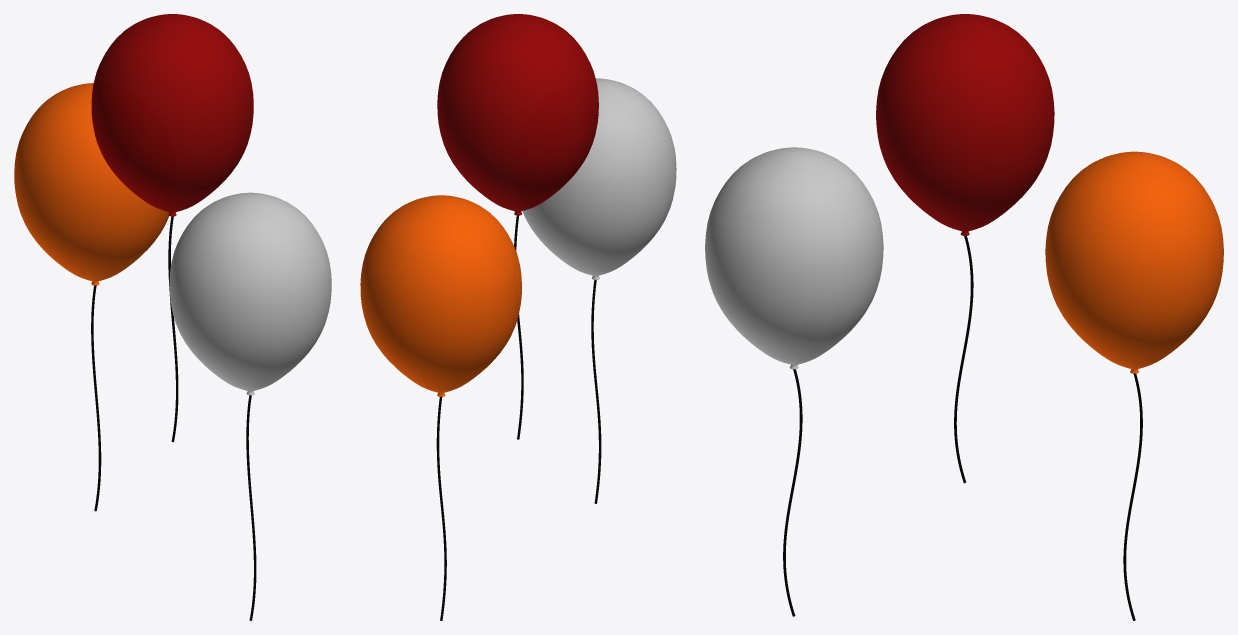
File: globos.obj
3 renders of one model, left to right at view 1: azimuth 30°, elevation 25°; view 2: azimuth 150°, elevation 25°; view 3: azimuth 270°, elevation 25°, orthographic. The views are drawn at different scales.
Parts seen in each view (by area): view 1: Sphere.001_Sphere.004, Sphere, Sphere.002_Sphere.005, NurbsPath.002_NurbsPath.005, NurbsPath.001_NurbsPath.004, NurbsPath; view 2: Sphere.002_Sphere.005, Sphere, Sphere.001_Sphere.004, NurbsPath.002_NurbsPath.005, NurbsPath.001_NurbsPath.004, NurbsPath; view 3: Sphere.001_Sphere.004, Sphere.002_Sphere.005, Sphere, NurbsPath.001_NurbsPath.004, NurbsPath.002_NurbsPath.005, NurbsPath.
Part boxes in pixels (x1,y1,x2,y2): Sphere.001_Sphere.004: (169,192,331,395); Sphere: (91,14,253,216); Sphere.002_Sphere.005: (14,83,169,285); NurbsPath.002_NurbsPath.005: (91,285,101,511); NurbsPath.001_NurbsPath.004: (246,395,256,620); NurbsPath: (168,216,178,442); Sphere.002_Sphere.005: (360,195,521,396); Sphere: (437,14,598,215); Sphere.001_Sphere.004: (522,78,676,279); NurbsPath.002_NurbsPath.005: (436,397,446,620); NurbsPath.001_NurbsPath.004: (591,280,601,503); NurbsPath: (514,215,523,439); Sphere.001_Sphere.004: (705,147,883,369); Sphere.002_Sphere.005: (1045,151,1223,373); Sphere: (876,14,1054,235); NurbsPath.001_NurbsPath.004: (783,369,802,616); NurbsPath.002_NurbsPath.005: (1123,373,1142,620); NurbsPath: (954,236,973,483).
Size of the model in its own units: 0.253 by 0.9417 by 0.7381.
